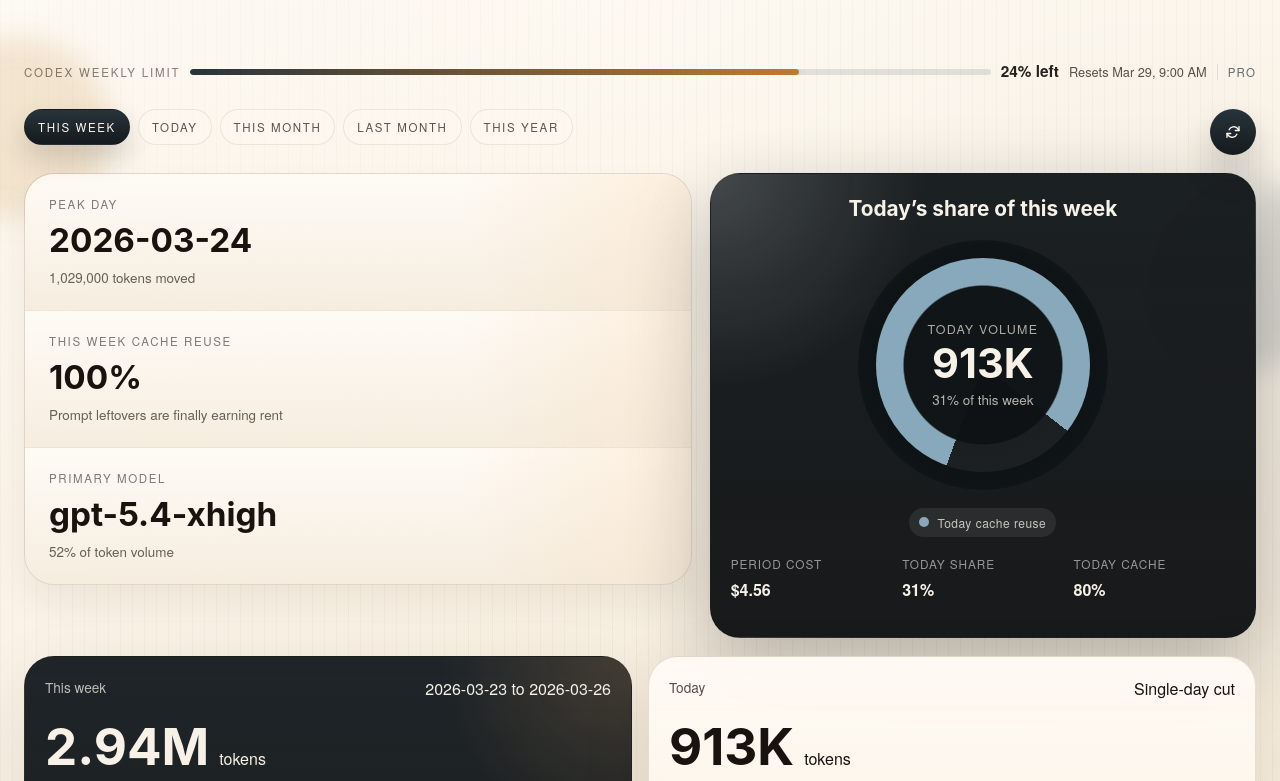
it: App › switches the dashboard period when a filter is selected
Expected: the button "This week" is shown, [24, 109, 130, 145]
Click the button "This month" at (277,127), box [220, 109, 335, 145]
(page scrolled)
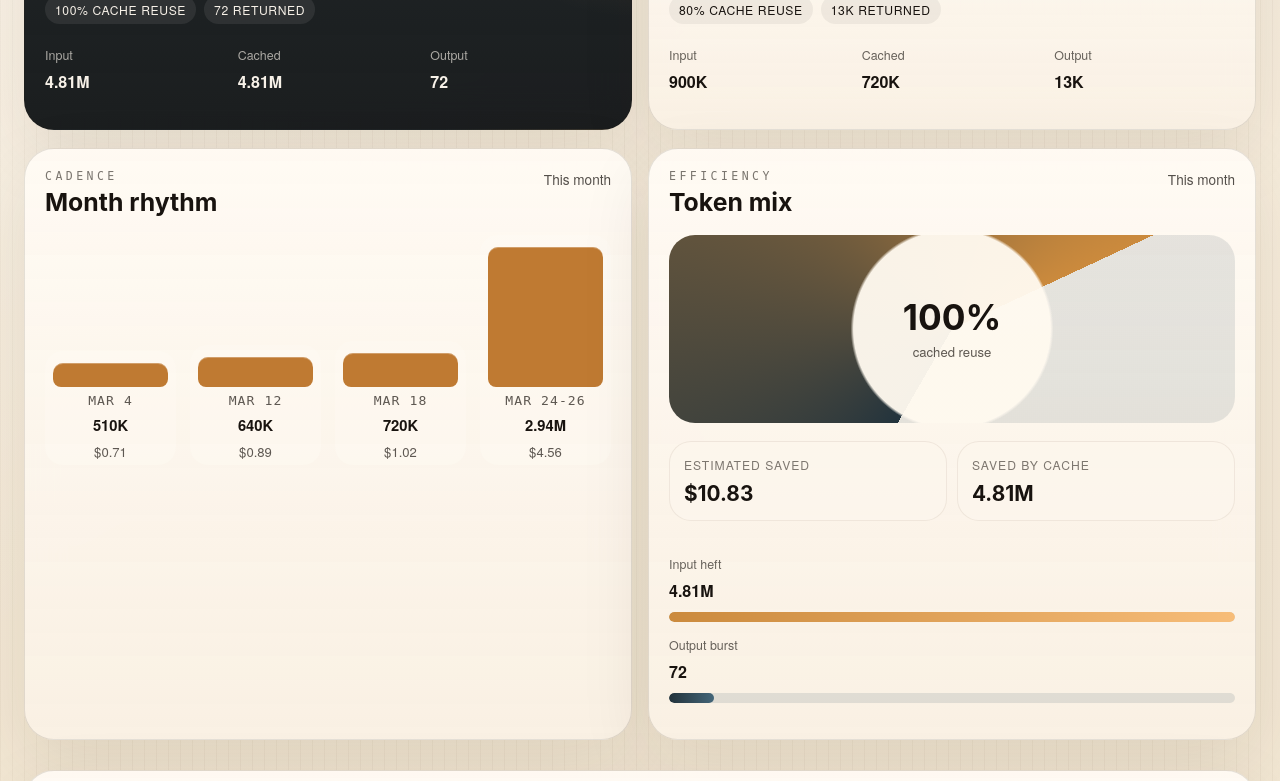
Now the heading "Month rhythm" is shown, box [45, 187, 217, 217]
Now the text "Mar 24-26" is shown, box [505, 393, 586, 408]
